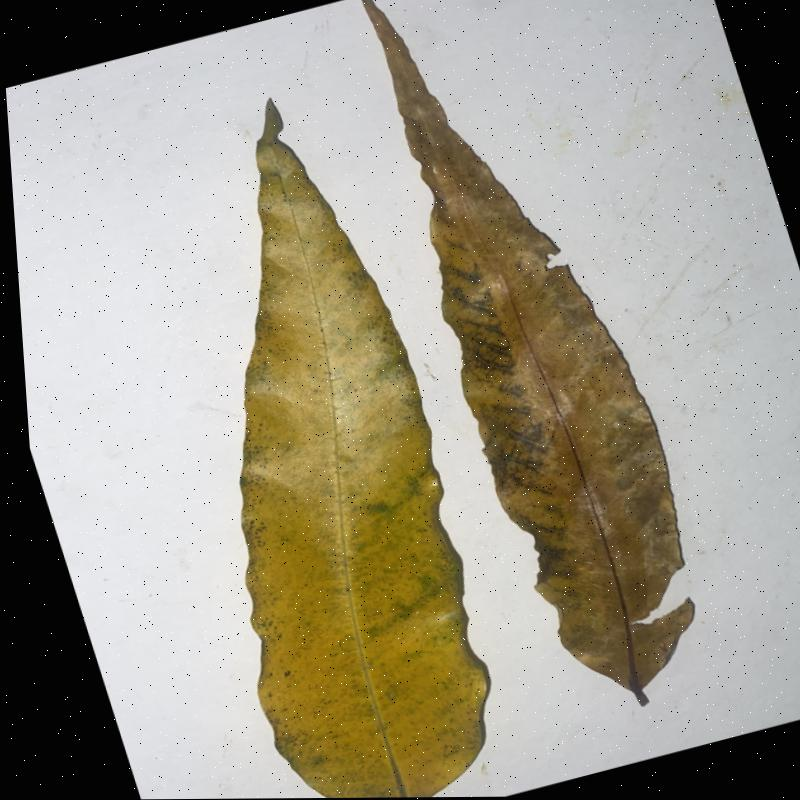treeleaves: (362, 0, 697, 708), (238, 105, 492, 798)
